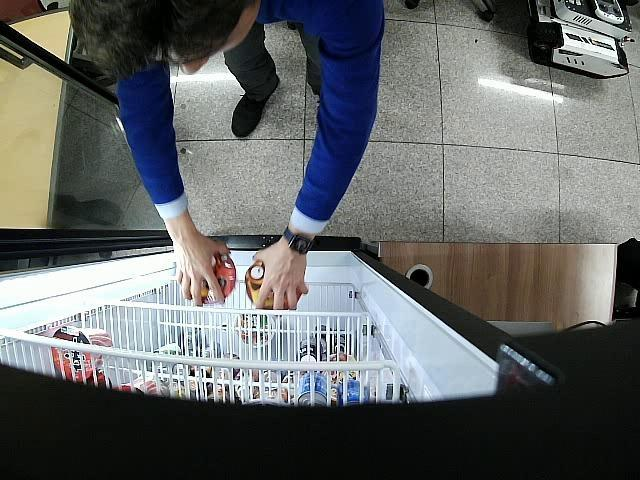05_nuguri_L: (246, 259, 302, 310), (190, 253, 236, 303)
